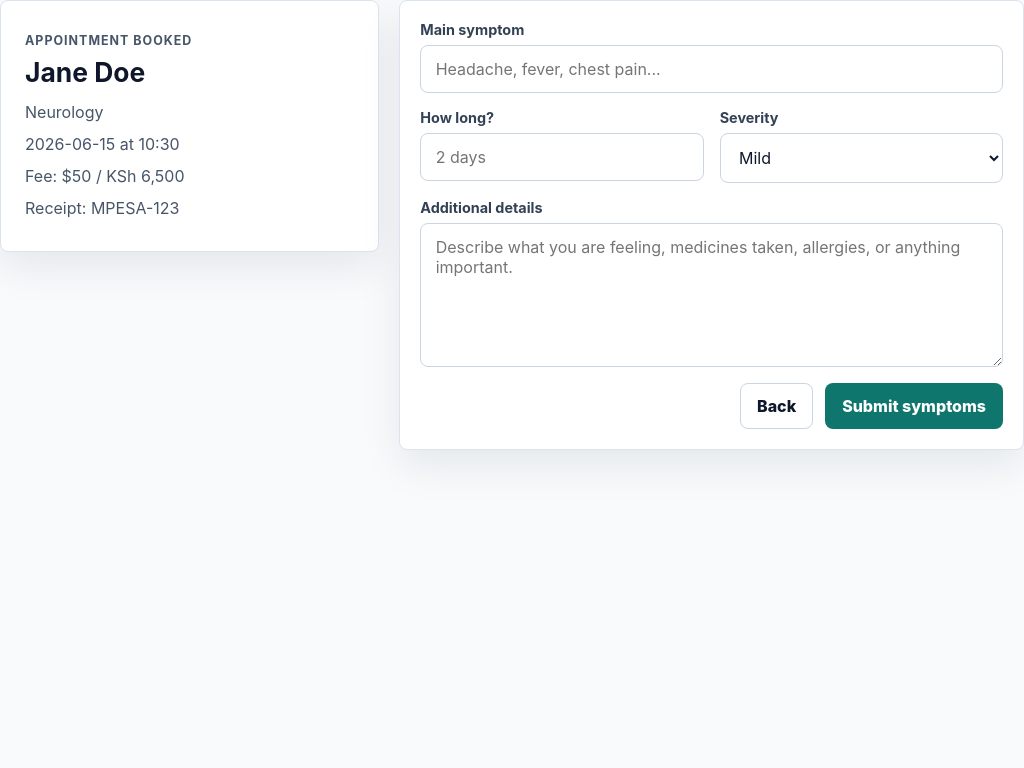
SymptomsForm › shows an error when symptom details are missing
The image size is (1024, 768).
Click the button "Submit symptoms" at point(914, 406), box [825,383,1003,429]
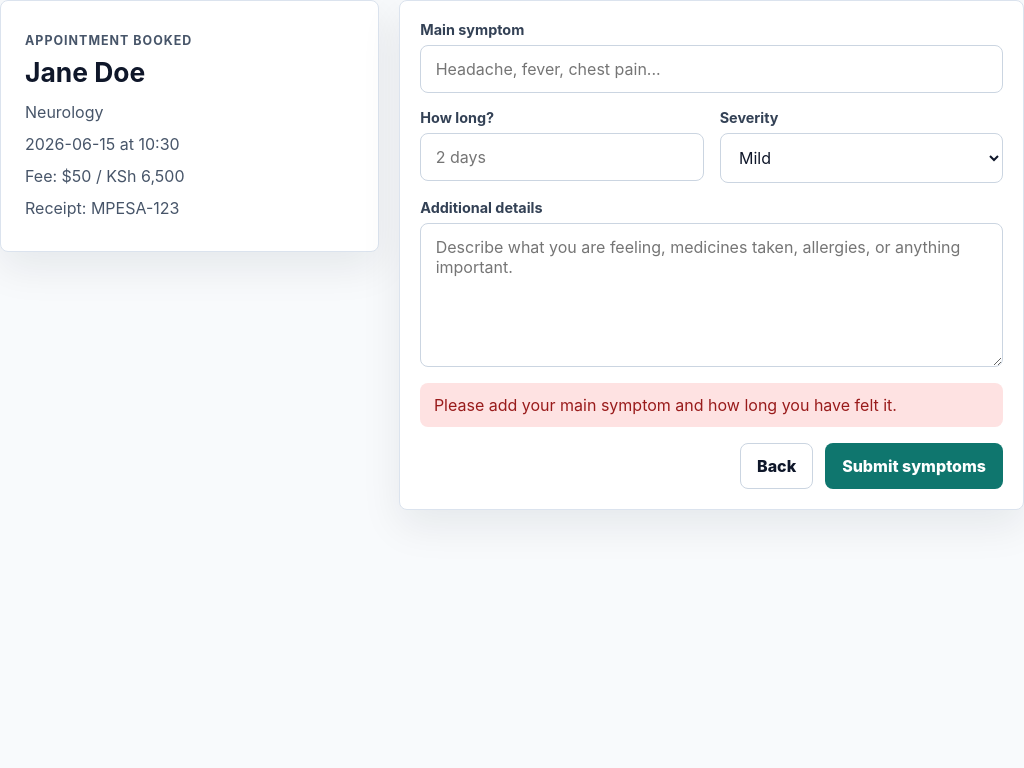
Now the text "Please add your main symptom and how long you have felt it." is shown, box [420,383,1003,427]
